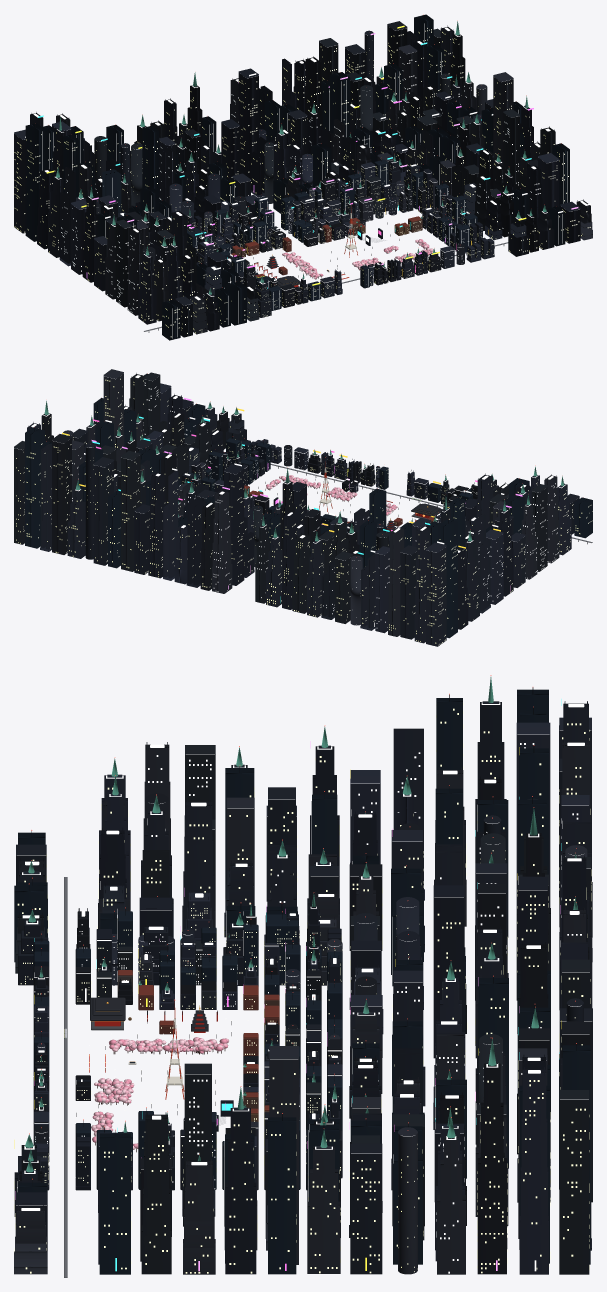
Rendered from by_tokyo.glb.
The picture shows the model from 3 angles, top to bottom: view 1: azimuth 30°, elevation 25°; view 2: azimuth 150°, elevation 25°; view 3: azimuth 270°, elevation 25°; orthographic projection. The views are drawn at different scales.
Parts seen in each view (by area): view 1: Skyline_net, Bykerne_net, Parker_net; view 2: Skyline_net, Bykerne_net, Parker_net, Templet_net; view 3: Skyline_net, Bykerne_net, Parker_net, Jernbanen_net, Templet_net.
Part boxes in pixels (x1,y1,x2,y2): Skyline_net: (14, 14, 592, 340); Bykerne_net: (187, 154, 494, 317); Parker_net: (282, 239, 433, 279); Skyline_net: (14, 369, 592, 646); Bykerne_net: (181, 438, 498, 531); Parker_net: (266, 475, 397, 515); Templet_net: (386, 503, 443, 531); Skyline_net: (14, 675, 592, 1274); Bykerne_net: (18, 888, 342, 1190); Parker_net: (91, 1037, 228, 1152); Jernbanen_net: (64, 877, 67, 1277); Templet_net: (90, 997, 208, 1032).
Size of the model in its own units: 190 by 52.02 by 116.
